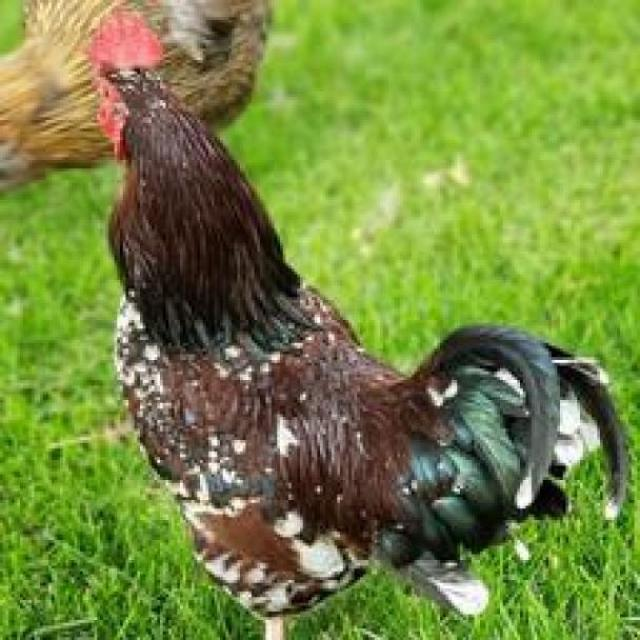Chicken: (53, 14, 637, 640)
